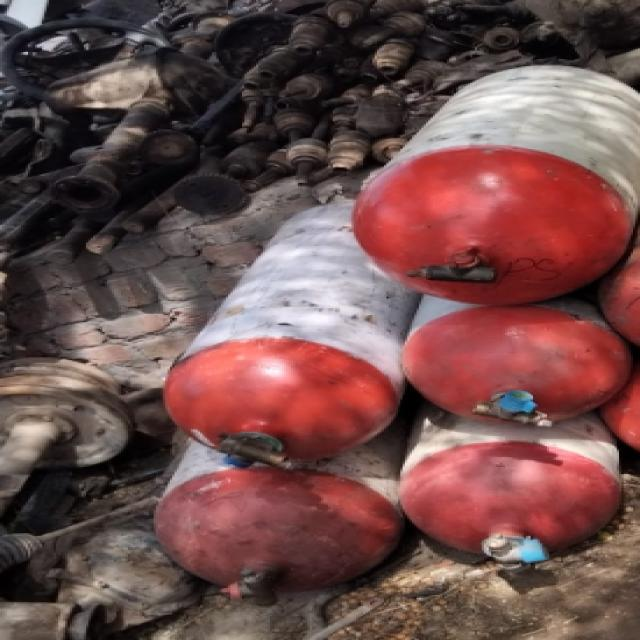cylinder: (164, 199, 420, 469), (353, 65, 638, 306)
